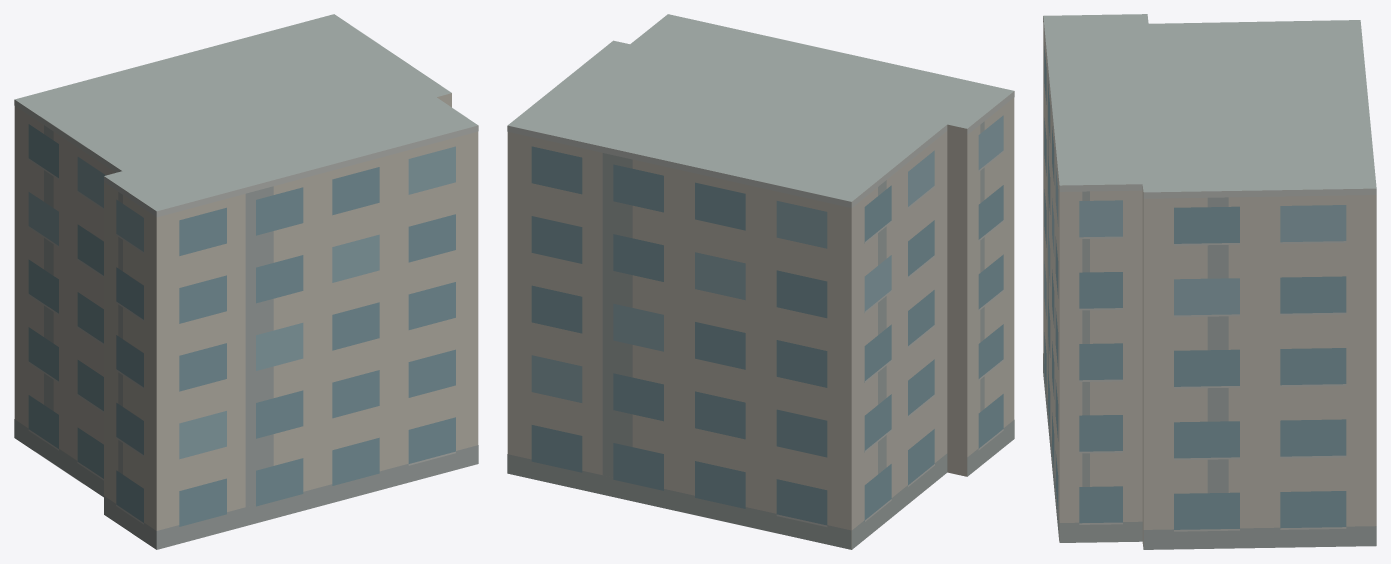
Rendered from survey-upis-32678186.glb.
3 views of the same model, side by side, from view 1: azimuth 30°, elevation 25°; view 2: azimuth 150°, elevation 25°; view 3: azimuth 270°, elevation 25° (orthographic). The views are drawn at different scales.
Visible parts, largest first — view 1: survey-upis-32678186.tmp; view 2: survey-upis-32678186.tmp; view 3: survey-upis-32678186.tmp.
Boxes of the visible parts, bbox=[...] form: survey-upis-32678186.tmp: bbox=[14, 14, 478, 549]; survey-upis-32678186.tmp: bbox=[507, 14, 1014, 549]; survey-upis-32678186.tmp: bbox=[1043, 14, 1376, 549].
Bounding box in the file's own units: 14.57 × 13.6 × 11.51.
